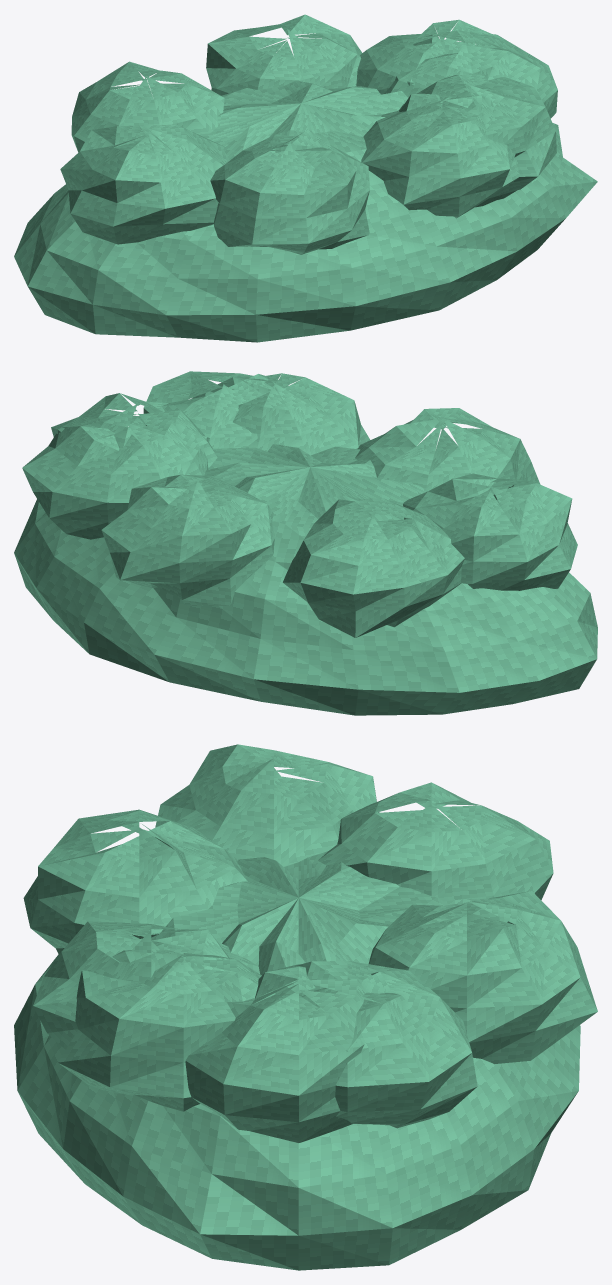
Rendered from cave-and-crystal-networks-malachite-crust-5e3f3f67.glb.
The picture shows the model from 3 angles, top to bottom: view 1: azimuth 30°, elevation 25°; view 2: azimuth 150°, elevation 25°; view 3: azimuth 270°, elevation 25°; orthographic projection. The views are drawn at different scales.
Visible parts, largest first — view 1: malachite-crust; view 2: malachite-crust; view 3: malachite-crust.
Part boxes in pixels (bbox=[...]): malachite-crust: bbox=[14, 14, 597, 342]; malachite-crust: bbox=[14, 371, 597, 715]; malachite-crust: bbox=[14, 744, 597, 1270].
Bounding box in the file's own units: 0.975 × 0.2973 × 0.6662.
1 material, 1 textured.
